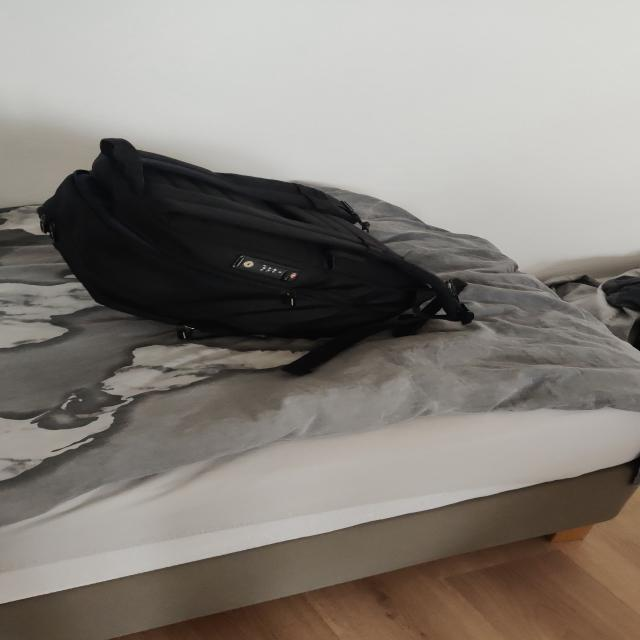backpack: (26, 133, 472, 372)
